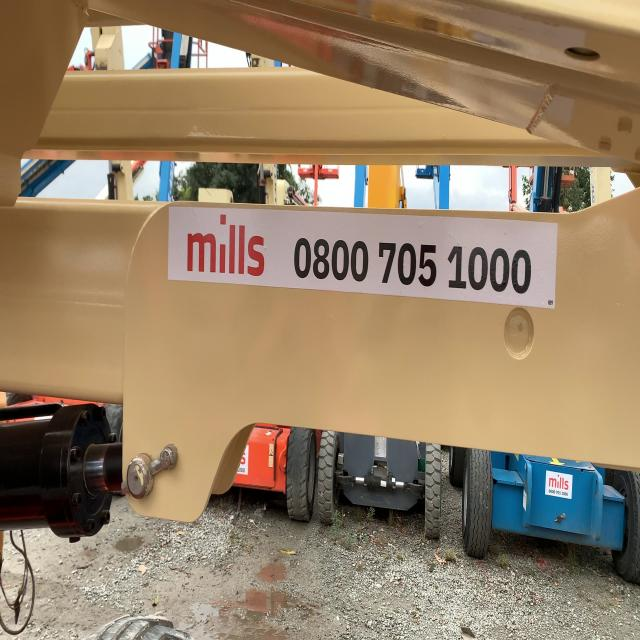Adesivo Longo: (165, 201, 560, 312)
